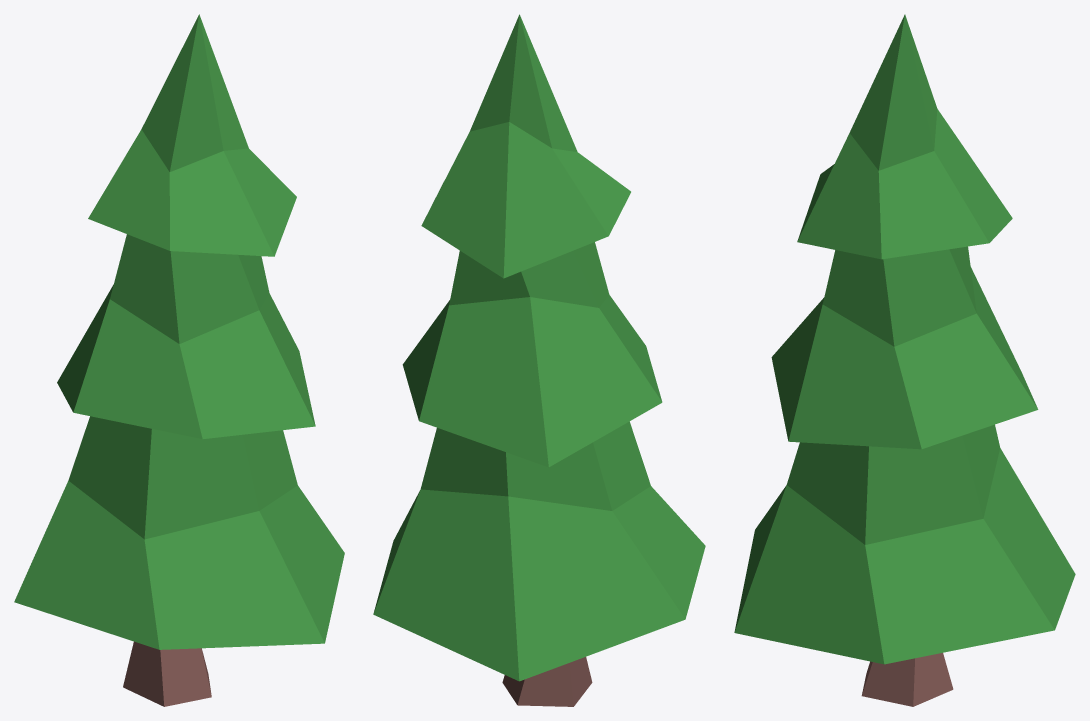
File: arbol pino 3.fbx
The picture shows the model from 3 angles, left to right: view 1: azimuth 30°, elevation 25°; view 2: azimuth 150°, elevation 25°; view 3: azimuth 270°, elevation 25°; orthographic projection. The views are drawn at different scales.
Parts seen in each view (by area): view 1: SpruceTree1; view 2: SpruceTree1; view 3: SpruceTree1.
Part boxes in pixels (bbox=[...]): SpruceTree1: bbox=[14, 14, 344, 706]; SpruceTree1: bbox=[373, 14, 705, 706]; SpruceTree1: bbox=[734, 14, 1075, 706].
Size of the model in its own units: 12557 by 25719 by 11583.
